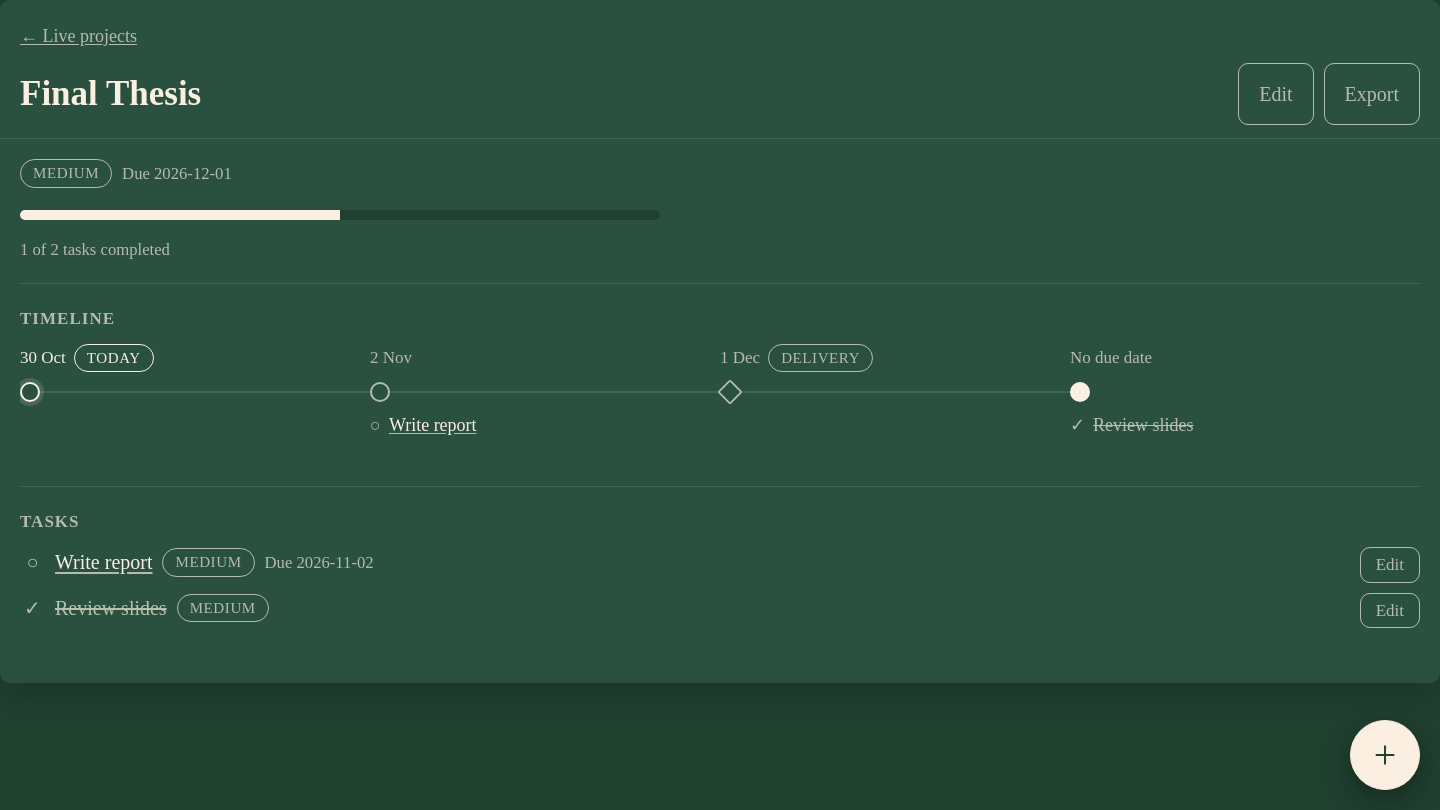
Test case: ProjectExport › opens from the Export button beside Edit, with Markdown and without completed tasks to start
This screenshot has width=1440, height=810.
Click the button "Export".
click(1372, 94)  # box [1324,63,1420,125]
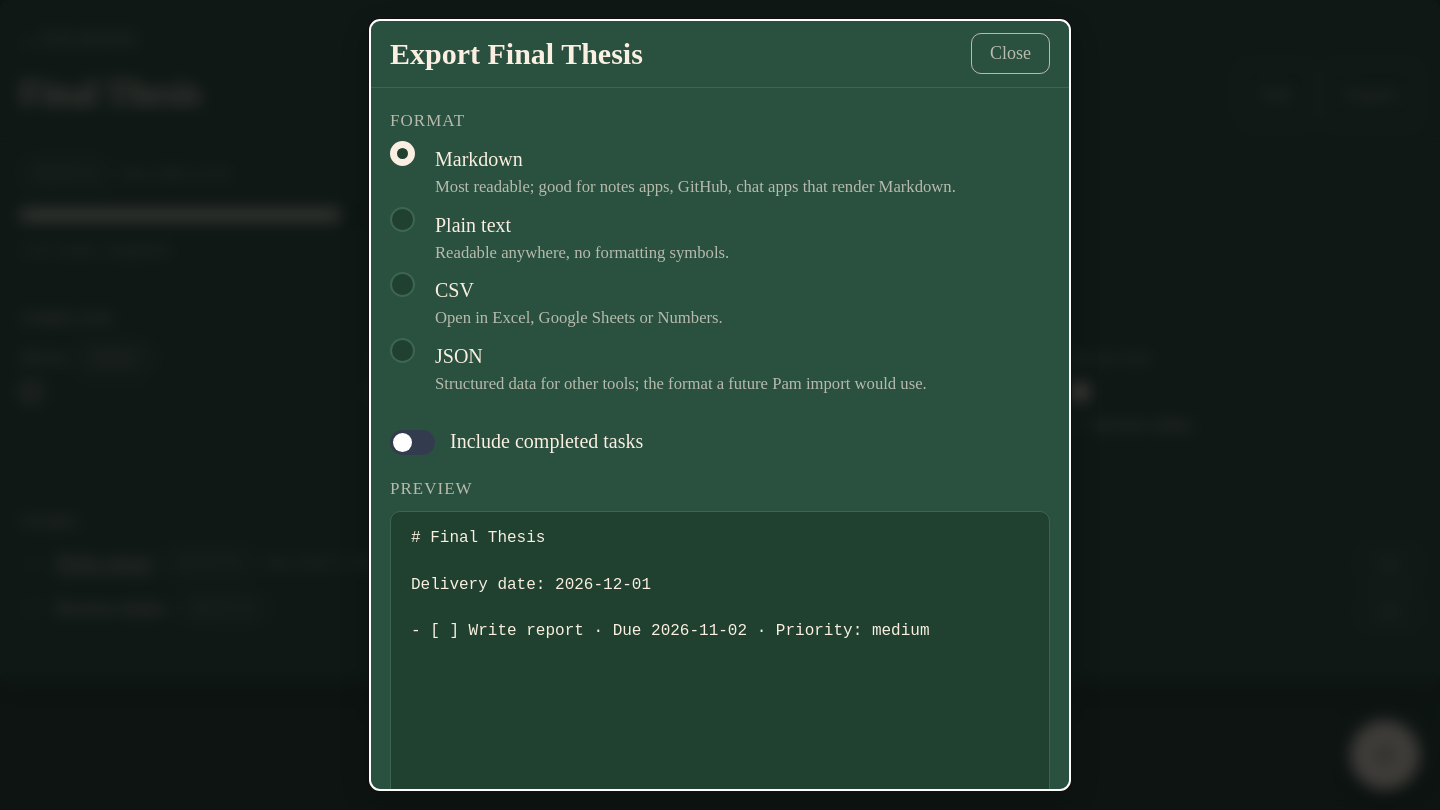
Expected: the heading with id "export-title" reads "Export Final Thesis", [390,37,643,70]
Expected: the elements with class "format" read "Markdown Most readable; good for notes apps, GitHub, chat apps that render Markdown.", "Plain text Readable anywhere, no formatting symbols.", "CSV Open in Excel, Google Sheets or Numbers.", "JSON Structured data for other tools; the format a future Pam import would use.", in this order, [390,144,956,199]; [390,209,729,265]; [390,275,723,330]; [390,340,927,396]
